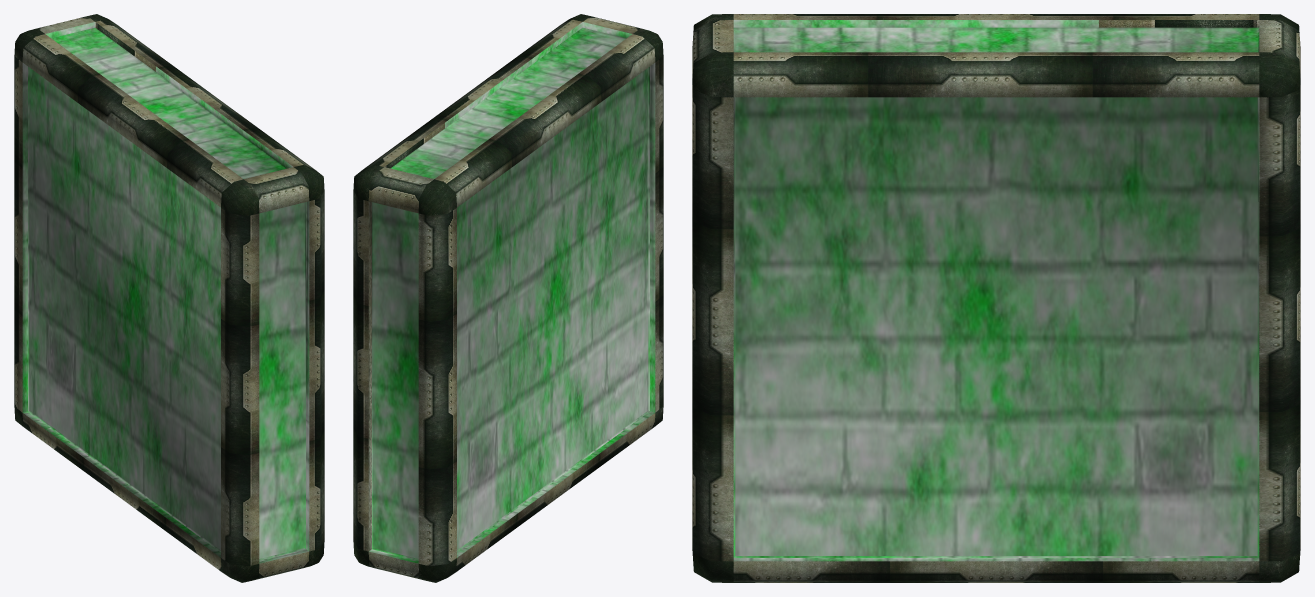
Rendered from Platform3.fbx.
The picture shows the model from 3 angles, left to right: view 1: azimuth 30°, elevation 25°; view 2: azimuth 150°, elevation 25°; view 3: azimuth 270°, elevation 25°; orthographic projection. The views are drawn at different scales.
Visible parts, largest first — view 1: Cube.001; view 2: Cube.001; view 3: Cube.001.
Part boxes in pixels (x1,y1,x2,y2): Cube.001: (14,14,324,582); Cube.001: (353,14,663,582); Cube.001: (692,14,1300,582).
Size of the model in its own units: 52.13 by 206 by 217.
